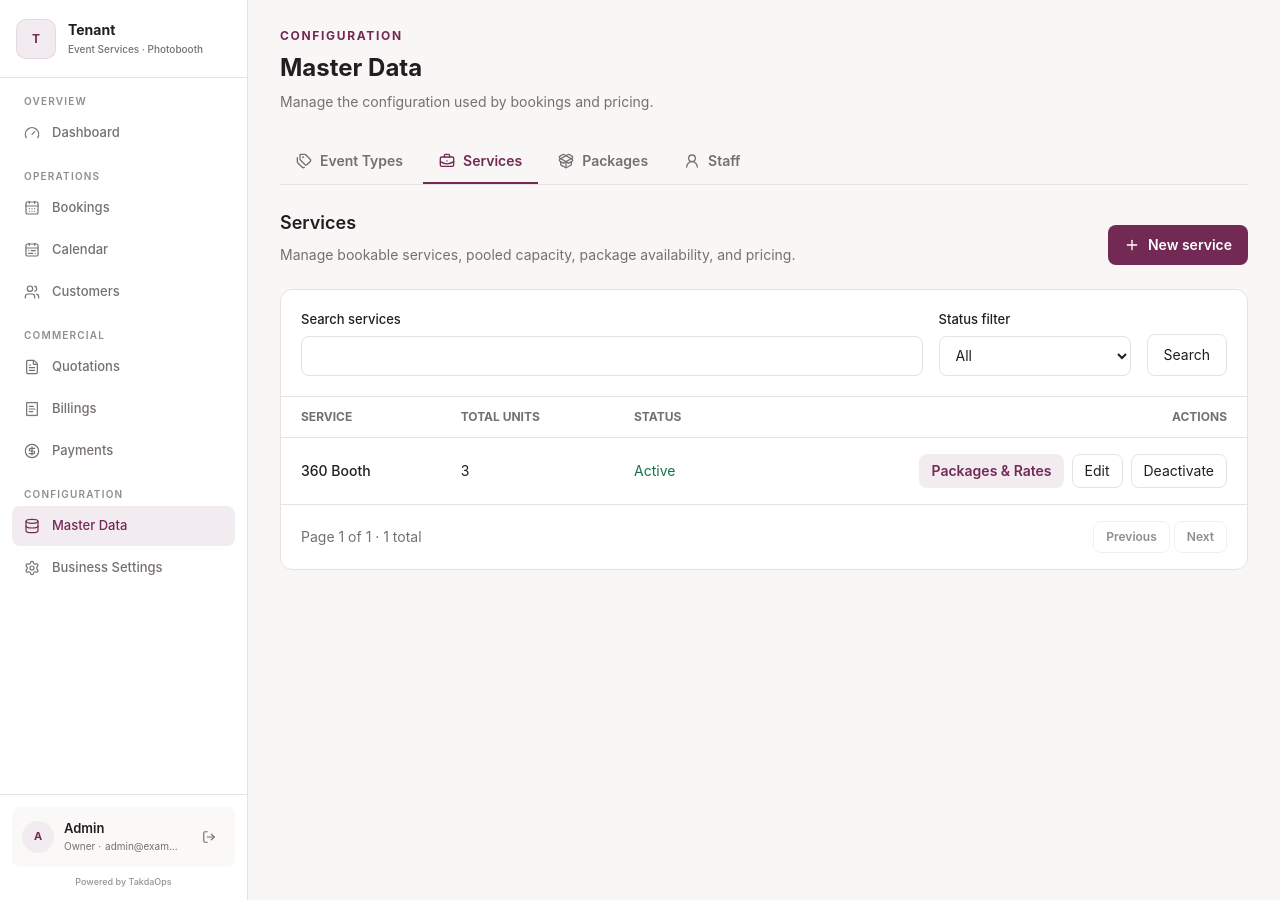
it: shows a blocked unassignment error from the backend
The width and height of the screenshot is (1280, 900).
Click the button "Packages & Rates" at (992, 470), box [920,454,1064,488]
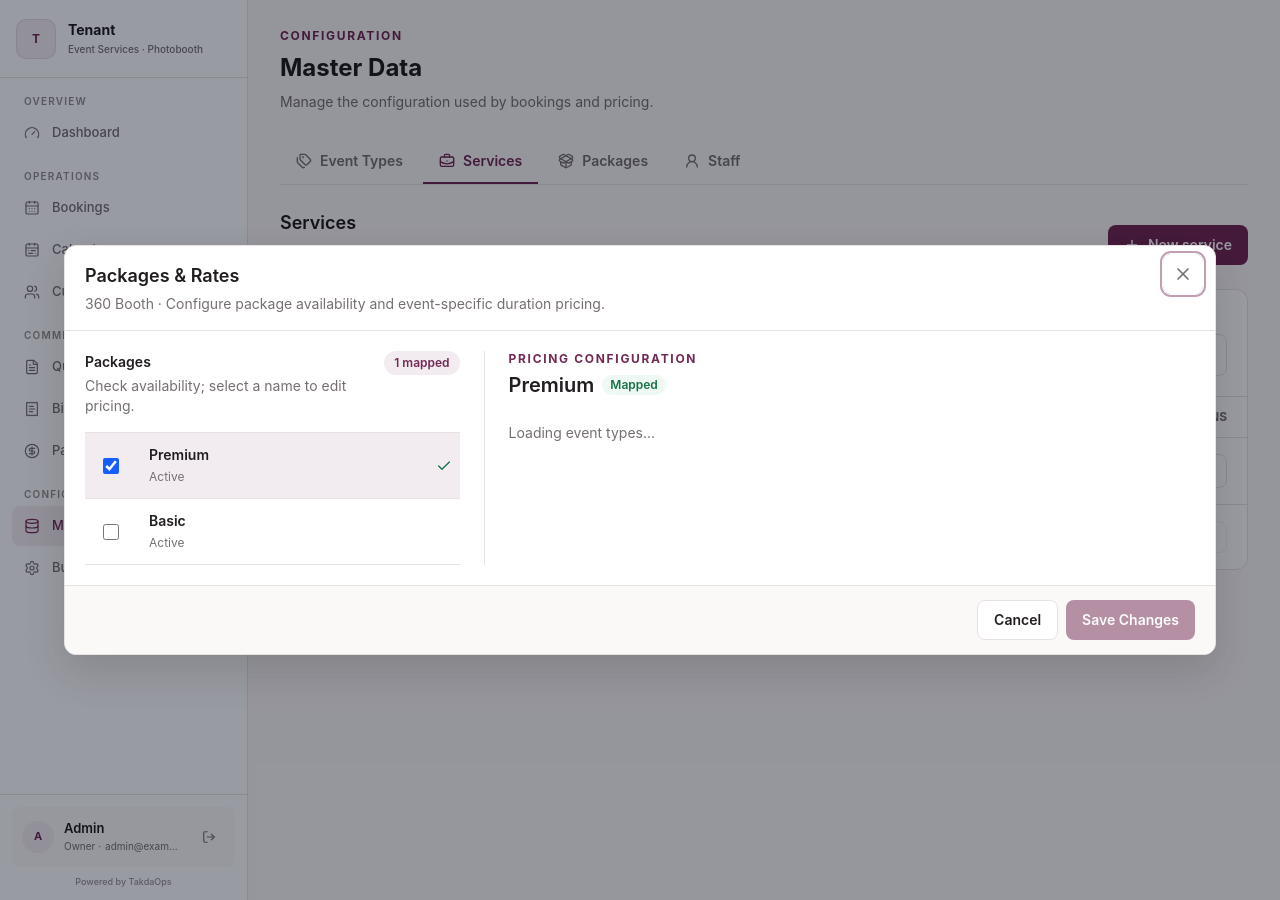
Click the checkbox named "Premium" at (111, 466), box [103,458,119,474]
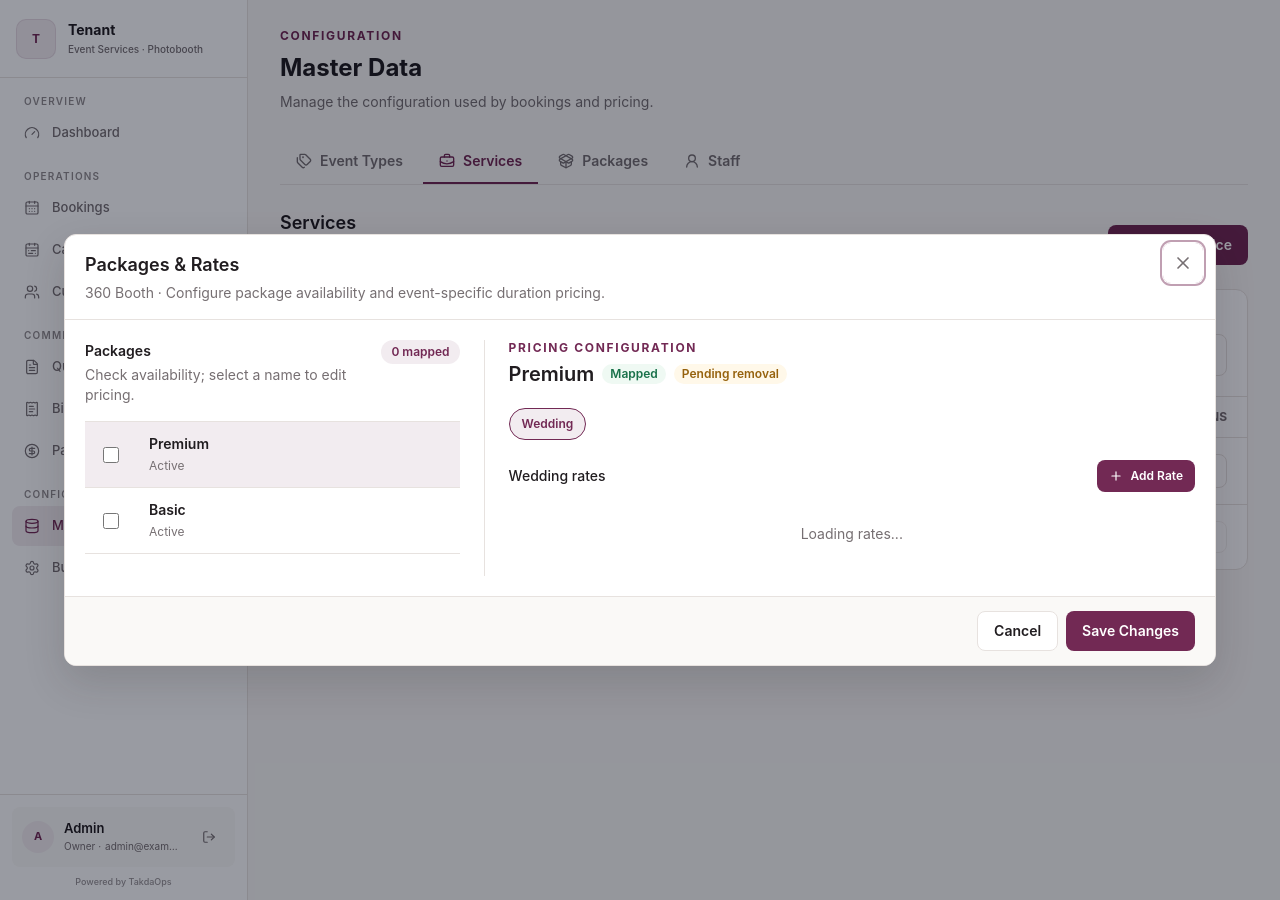
Click the button "Save Changes" at (1131, 631), box [1066,611,1195,651]
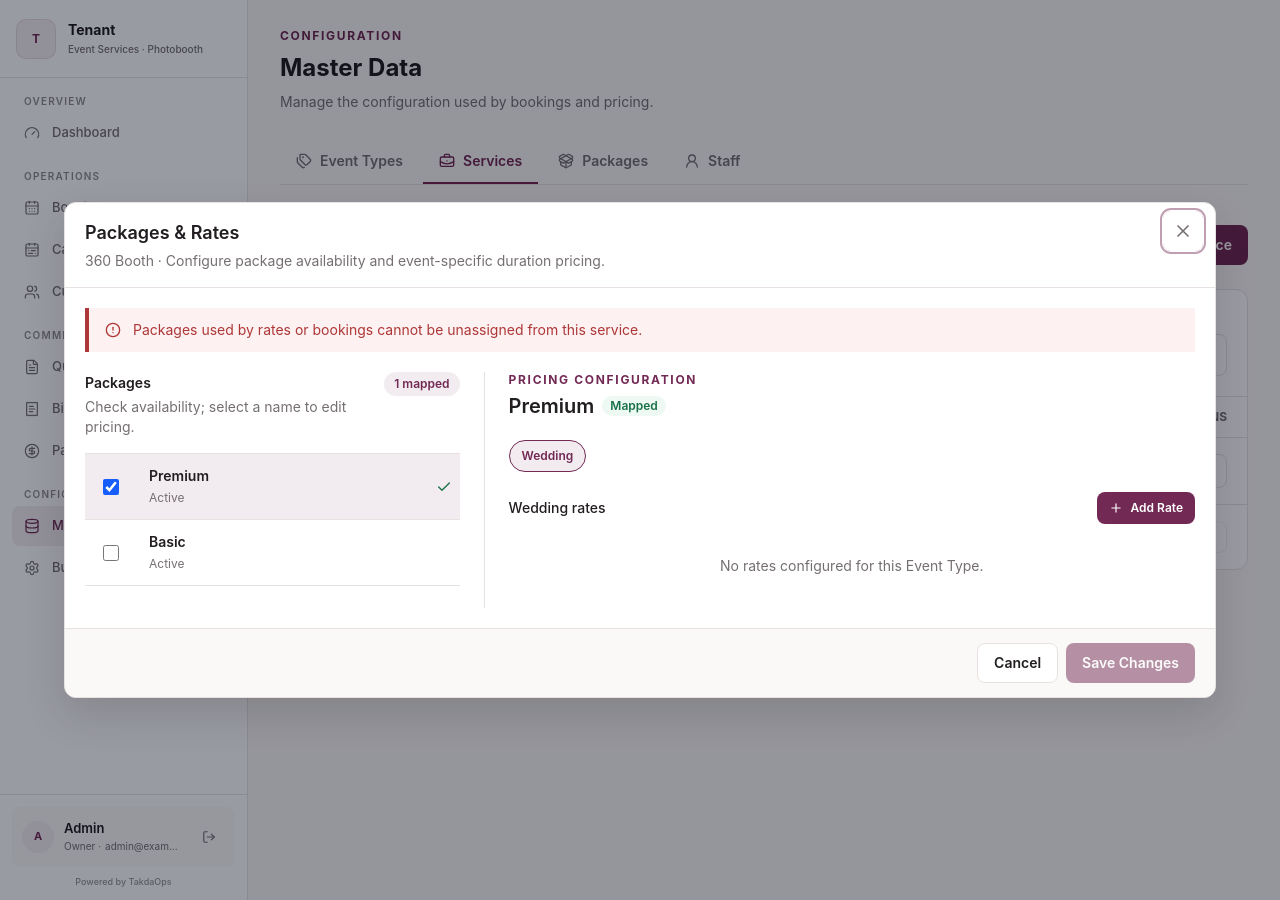
Expected: the checkbox named "Premium" is checked, [103,478,119,494]
Expected: the text "Packages used by rates or bookings cannot be unassigned from this service." is shown, [133,320,642,340]
